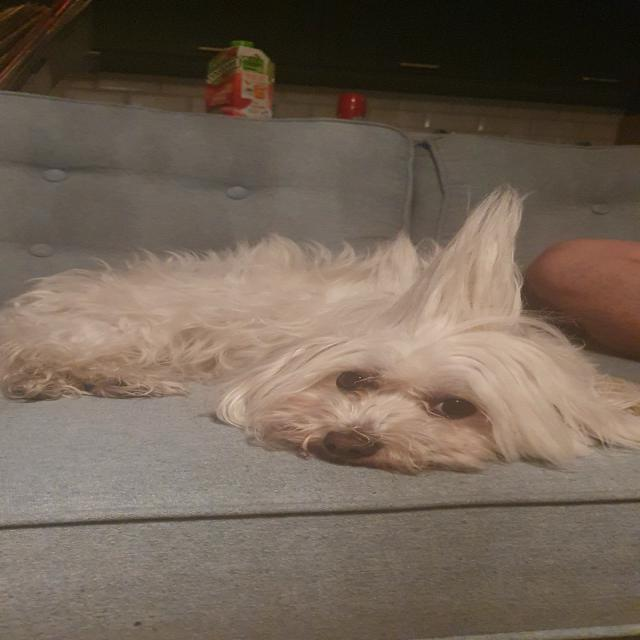maltese: (2, 236, 638, 472)
